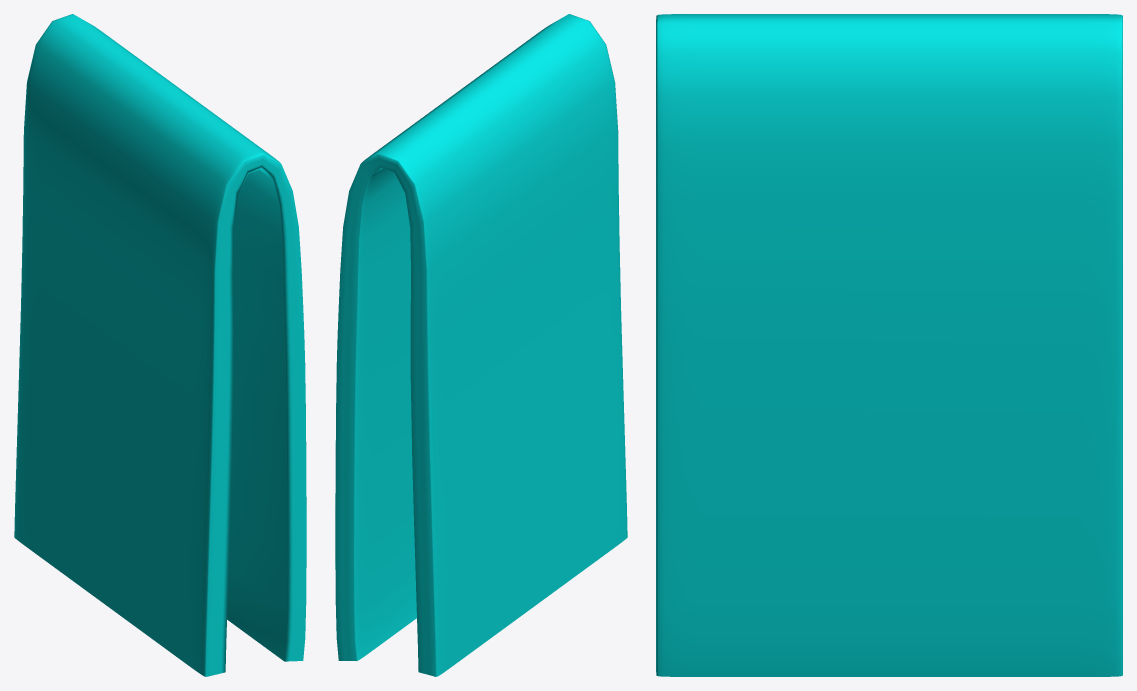
Rendered from B_Toalla.fbx.
3 views of the same model, side by side, from view 1: azimuth 30°, elevation 25°; view 2: azimuth 150°, elevation 25°; view 3: azimuth 270°, elevation 25° (orthographic). The views are drawn at different scales.
Visible parts, largest first — view 1: B_Toalla; view 2: B_Toalla; view 3: B_Toalla.
Boxes of the visible parts, x1,y1,x2,y2 form: B_Toalla: (14,14,306,676); B_Toalla: (335,14,627,676); B_Toalla: (656,14,1122,676).
Bounding box in the file's own units: 6.62 × 31.59 × 21.24.
